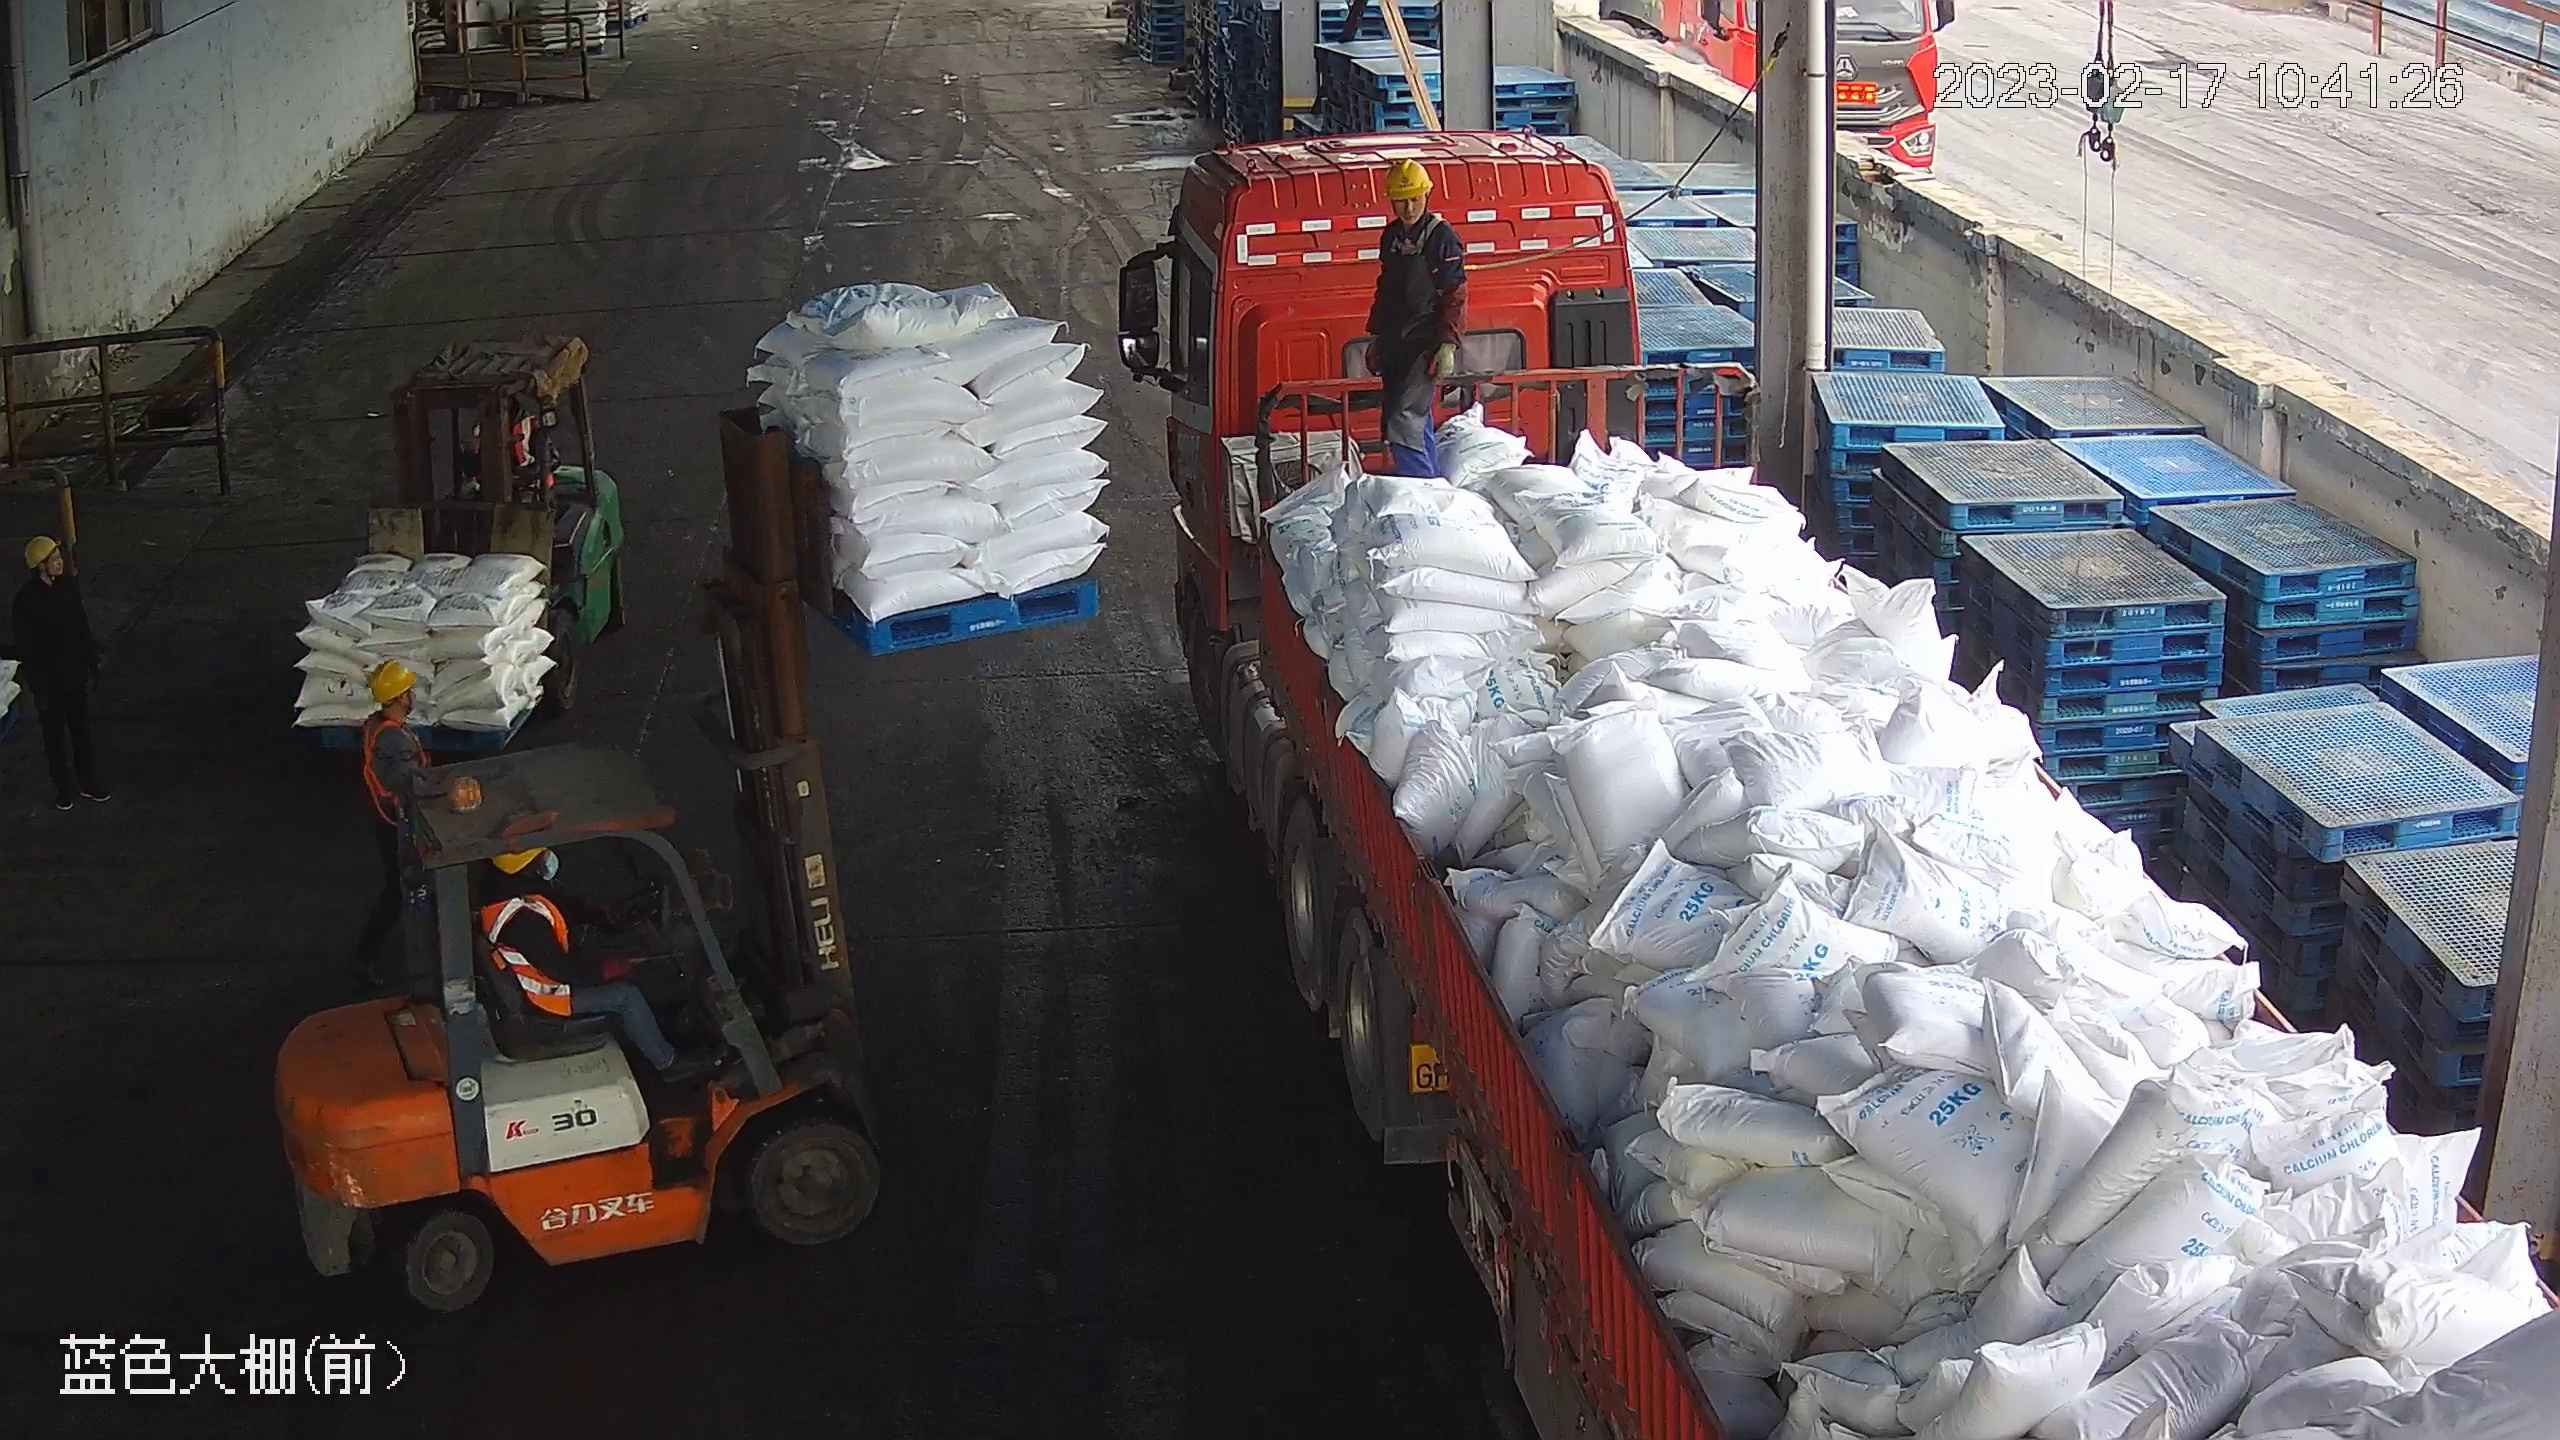belt: (1392, 209, 1454, 260)
head: (479, 841, 573, 950), (1372, 156, 1462, 268), (359, 660, 433, 762), (9, 534, 90, 618)
helmet: (1380, 154, 1433, 197), (367, 659, 417, 703), (485, 846, 549, 876), (21, 534, 61, 567)
people: (481, 838, 696, 1083), (1361, 158, 1468, 482), (350, 656, 450, 990), (5, 531, 114, 814)
truck: (1117, 128, 2554, 1440)
